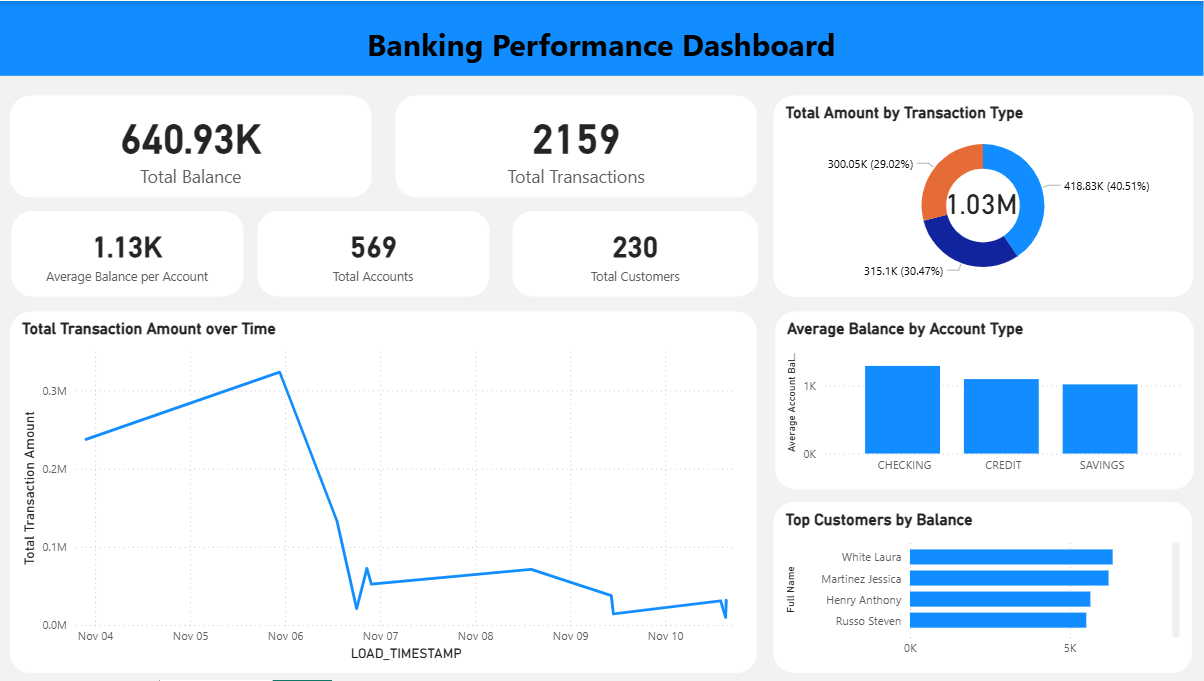

The page's visual inventory and layout, read from the dashboard file:
{"tool":"powerbi","page":{"name":"Page 1","canvas":[1280,720],"ordinal":0},"visuals":[{"type":"card","fields":{"Values":["DIM_ACCOUNTS.Total_Balance"]},"box":[13.3,100.6,383.6,107.7],"z":0},{"type":"card","fields":{"Values":["DIM_CUSTOMERS.Total_Customer_Count"]},"box":[545.2,222.6,260.8,90.7],"z":1000},{"type":"card","fields":{"Values":["DIM_ACCOUNTS.Ave_Balance_per_Acc"]},"box":[14.2,222.6,245.7,90.7],"z":2000},{"type":"card","fields":{"Values":["FACTS_TRANSACTIONS.Total Number of Transaction"]},"box":[421.5,100.6,383.6,107.7],"z":3000},{"type":"card","fields":{"Values":["DIM_ACCOUNTS.Total Accounts"]},"box":[275,222.6,245.7,90.7],"z":4000},{"type":"lineChart","title":"Total Transaction Amount over Time","fields":{"Category":["FACTS_TRANSACTIONS.LOAD_TIMESTAMP"],"Y":["FACTS_TRANSACTIONS.Total Transaction Amount"]},"box":[13.2,328.8,791.8,383.6],"z":5000},{"type":"clusteredColumnChart","title":"Average Balance by Account Type","fields":{"Category":["DIM_ACCOUNTS.ACCOUNT_TYPE"],"Y":["DIM_ACCOUNTS.Average Account Balance"]},"box":[823.9,328.8,444.1,189],"z":6000},{"type":"clusteredBarChart","title":"Top Customers by Balance","fields":{"Y":["DIM_ACCOUNTS.BALANCE"],"Category":["DIM_CUSTOMERS.Full Name"]},"box":[822.1,531,444.1,181.4],"z":7000},{"type":"donutChart","title":"Total Amount by Transaction Type","fields":{"Y":["FACTS_TRANSACTIONS.AMOUNT"],"Category":["FACTS_TRANSACTIONS.TXN_TYPE"]},"box":[821.7,100,445,213.3],"z":8000},{"type":"card","fields":{"Values":["FACTS_TRANSACTIONS.AMOUNT"]},"box":[875,156.7,335,115],"z":9000},{"type":"textbox","box":[0,0,1279.4,79.4],"z":9001}]}

Visuals, with their boxes in screenshot pixels (x1, y1, x2, y2), scaled from the page's 1280x720 canvas onto the 1204x681 screenshot:
card - DIM_ACCOUNTS.Total_Balance: Rect(13, 95, 373, 197)
card - DIM_CUSTOMERS.Total_Customer_Count: Rect(513, 211, 758, 296)
card - DIM_ACCOUNTS.Ave_Balance_per_Acc: Rect(13, 211, 244, 296)
card - FACTS_TRANSACTIONS.Total Number of Transaction: Rect(396, 95, 757, 197)
card - DIM_ACCOUNTS.Total Accounts: Rect(259, 211, 490, 296)
"Total Transaction Amount over Time" lineChart: Rect(12, 311, 757, 674)
"Average Balance by Account Type" clusteredColumnChart: Rect(775, 311, 1193, 490)
"Top Customers by Balance" clusteredBarChart: Rect(773, 502, 1191, 674)
"Total Amount by Transaction Type" donutChart: Rect(773, 95, 1191, 296)
card - FACTS_TRANSACTIONS.AMOUNT: Rect(823, 148, 1138, 257)
textbox: Rect(0, 0, 1203, 75)
